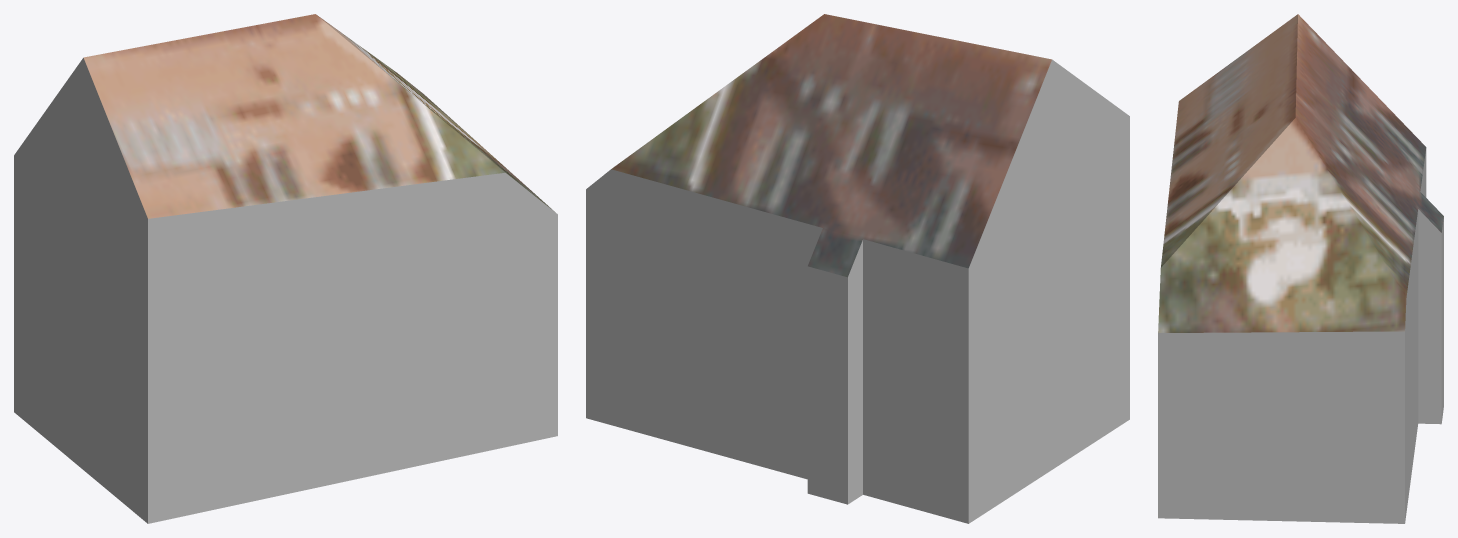
The model's file is DEBW_0010007TvkG.gltf.
3 views of the same model, side by side, from view 1: azimuth 30°, elevation 25°; view 2: azimuth 150°, elevation 25°; view 3: azimuth 270°, elevation 25° (orthographic). The views are drawn at different scales.
Parts seen in each view (by area): view 1: Z_UP; view 2: Z_UP; view 3: Z_UP.
Boxes of the visible parts, bbox=[...] form: Z_UP: bbox=[14, 14, 557, 523]; Z_UP: bbox=[586, 14, 1129, 523]; Z_UP: bbox=[1158, 14, 1443, 523].
Size of the model in its own units: 21.98 by 21.07 by 15.82.
2 materials, 1 textured.
